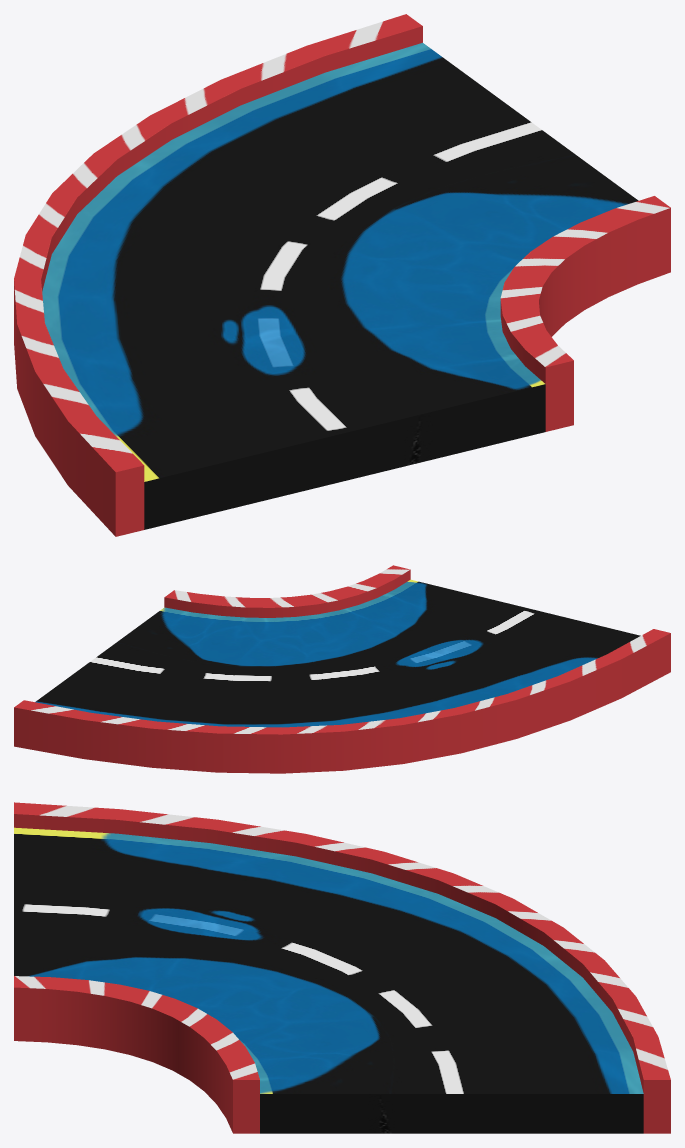
3 renders of one model, top to bottom at view 1: azimuth 30°, elevation 25°; view 2: azimuth 150°, elevation 25°; view 3: azimuth 270°, elevation 25°, orthographic. The views are drawn at different scales.
Visible parts, largest first — view 1: Track - Curve piece (Corner pivot)001; view 2: Track - Curve piece (Corner pivot)001; view 3: Track - Curve piece (Corner pivot)001.
Boxes of the visible parts, x1,y1,x2,y2 form: Track - Curve piece (Corner pivot)001: (14,14,670,536); Track - Curve piece (Corner pivot)001: (14,565,670,773); Track - Curve piece (Corner pivot)001: (14,802,670,1133).
Bounding box in the file's own units: 75 × 6.73 × 75.
